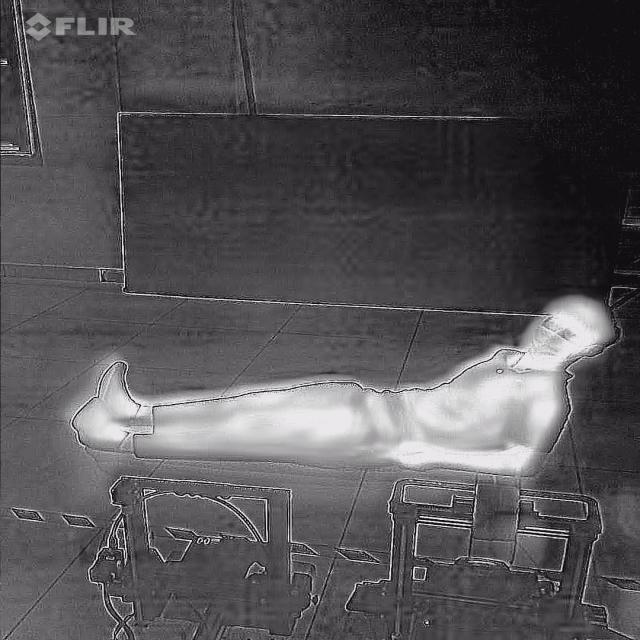Victim: (63, 290, 632, 486)
